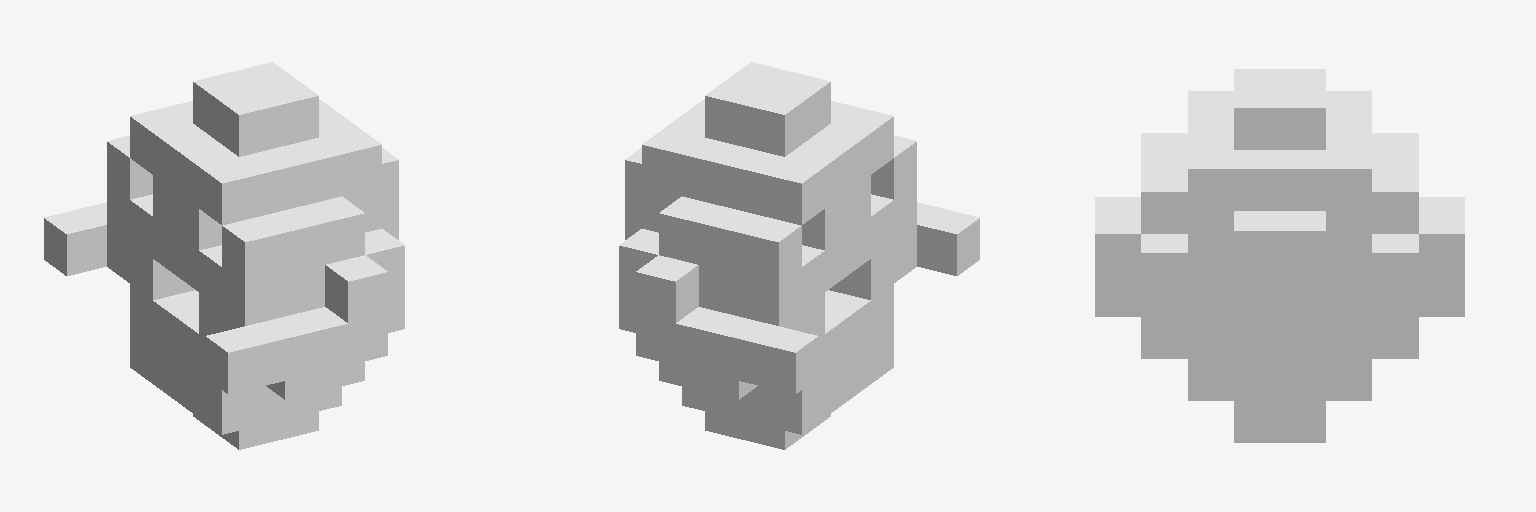
3 views of the same model, side by side, from view 1: azimuth 30°, elevation 25°; view 2: azimuth 150°, elevation 25°; view 3: azimuth 270°, elevation 25° (orthographic).
Parts seen in each view (by area): view 1: object 1; view 2: object 1; view 3: object 1.
Part boxes in pixels (x1,y1,x2,y2): object 1: (44,62,404,449); object 1: (619,62,979,449); object 1: (1095,69,1464,442).
Bounding box in the file's own units: 0.6 × 0.8 × 0.8.
Materials: 1 (1 with a texture image).